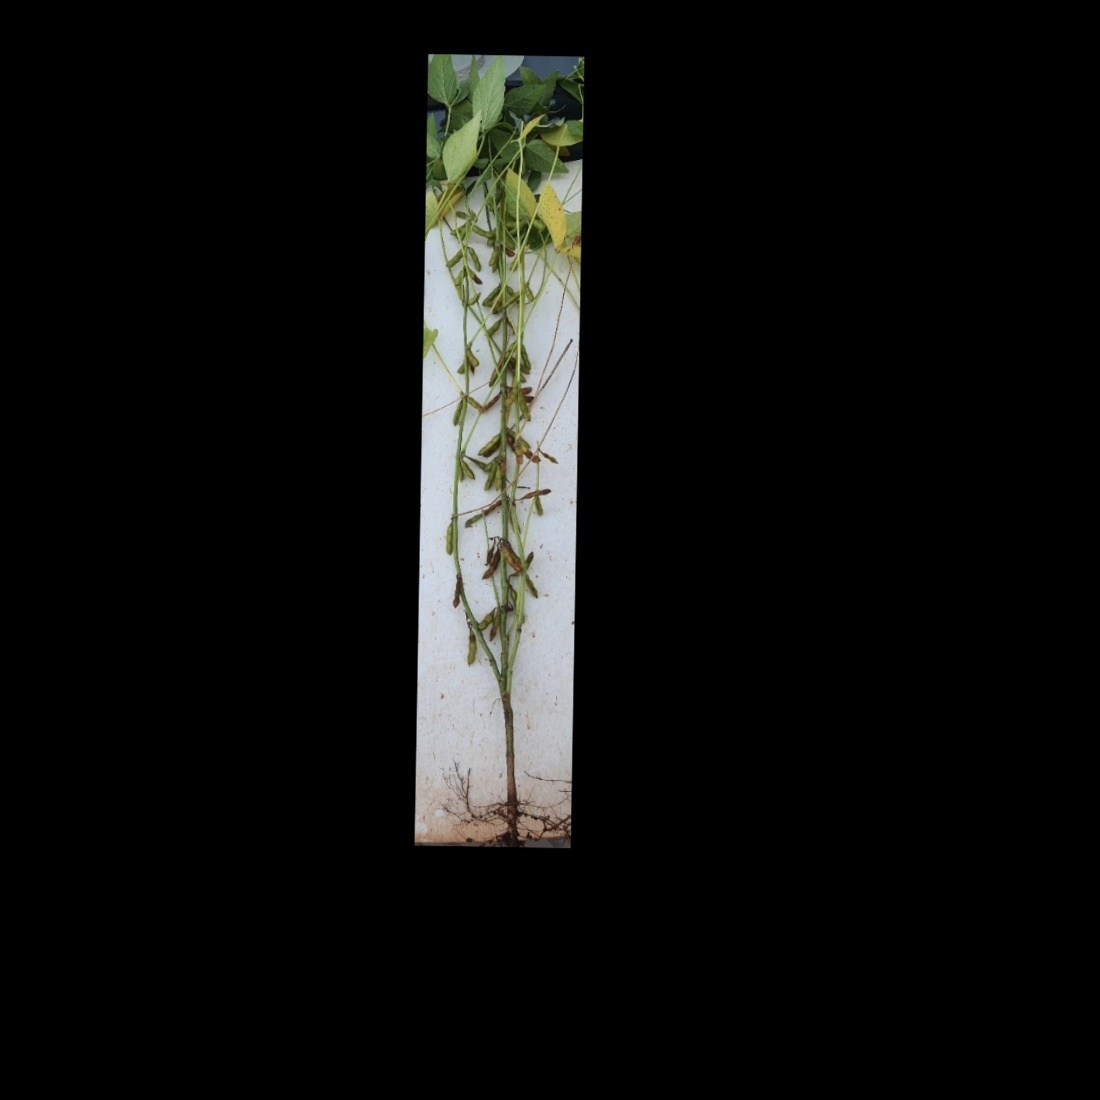pod: (478, 549, 501, 586), (476, 430, 503, 458), (482, 457, 500, 494), (480, 282, 502, 312), (500, 386, 524, 412), (463, 627, 478, 668), (465, 246, 485, 275), (440, 523, 456, 555), (475, 607, 496, 632), (459, 456, 476, 484), (444, 247, 463, 271), (451, 398, 466, 428), (469, 225, 498, 241), (466, 347, 482, 367)
soy: (417, 57, 575, 836)
